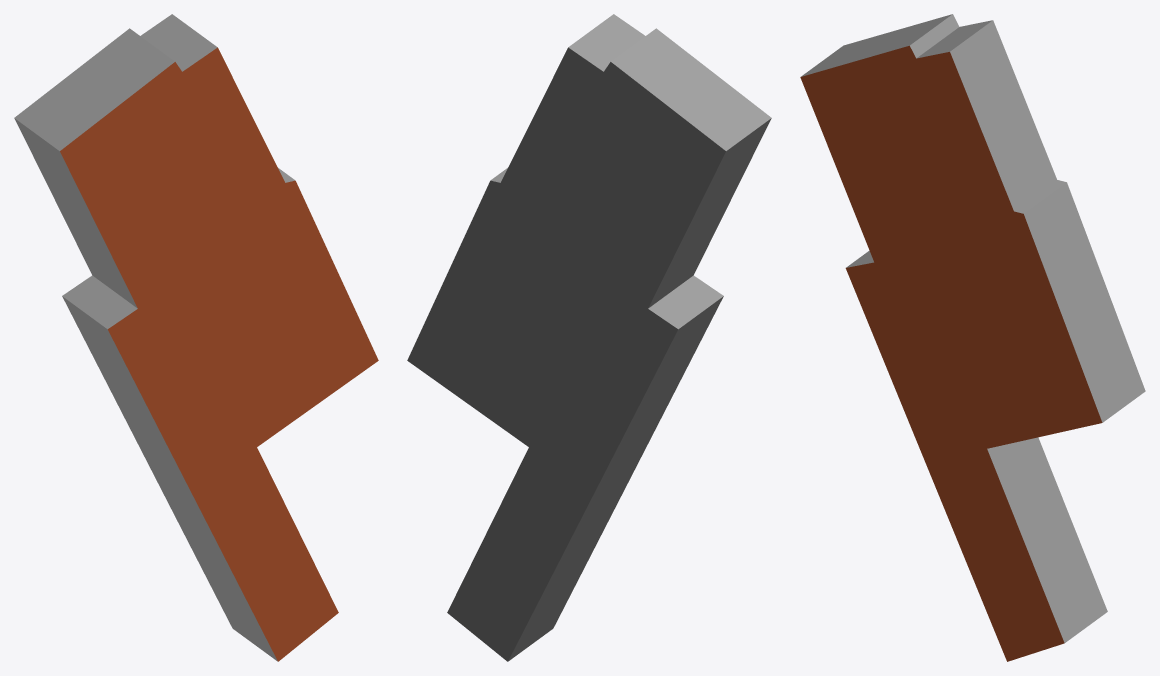
File: construction_0776_assumed_A_Casa_h6m.obj
The picture shows the model from 3 angles, left to right: view 1: azimuth 30°, elevation 25°; view 2: azimuth 150°, elevation 25°; view 3: azimuth 330°, elevation 25°; orthographic projection. The views are drawn at different scales.
Parts seen in each view (by area): view 1: construction_0776_assumed_A_Casa; view 2: construction_0776_assumed_A_Casa; view 3: construction_0776_assumed_A_Casa.
Part boxes in pixels (x1=…): construction_0776_assumed_A_Casa: x1=14, y1=14, x2=378, y2=661; construction_0776_assumed_A_Casa: x1=407, y1=14, x2=771, y2=661; construction_0776_assumed_A_Casa: x1=800, y1=14, x2=1145, y2=661.
Bounding box in the file's own units: 24.22 × 45.66 × 6.
